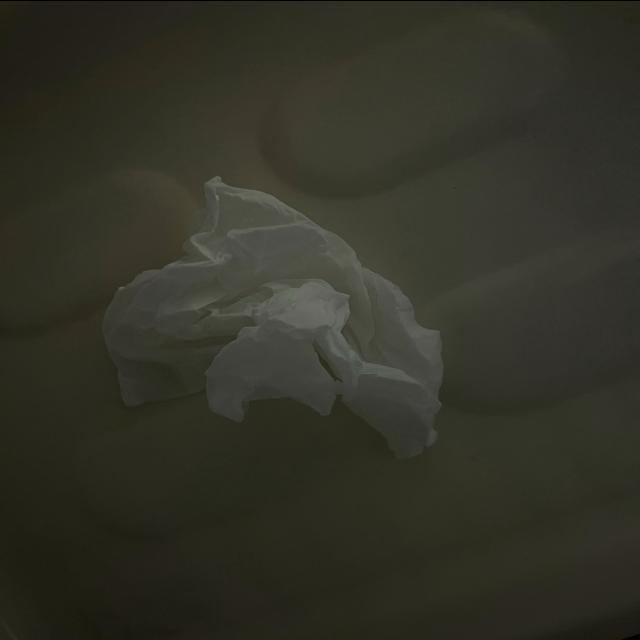Paper: (103, 149, 425, 450)
